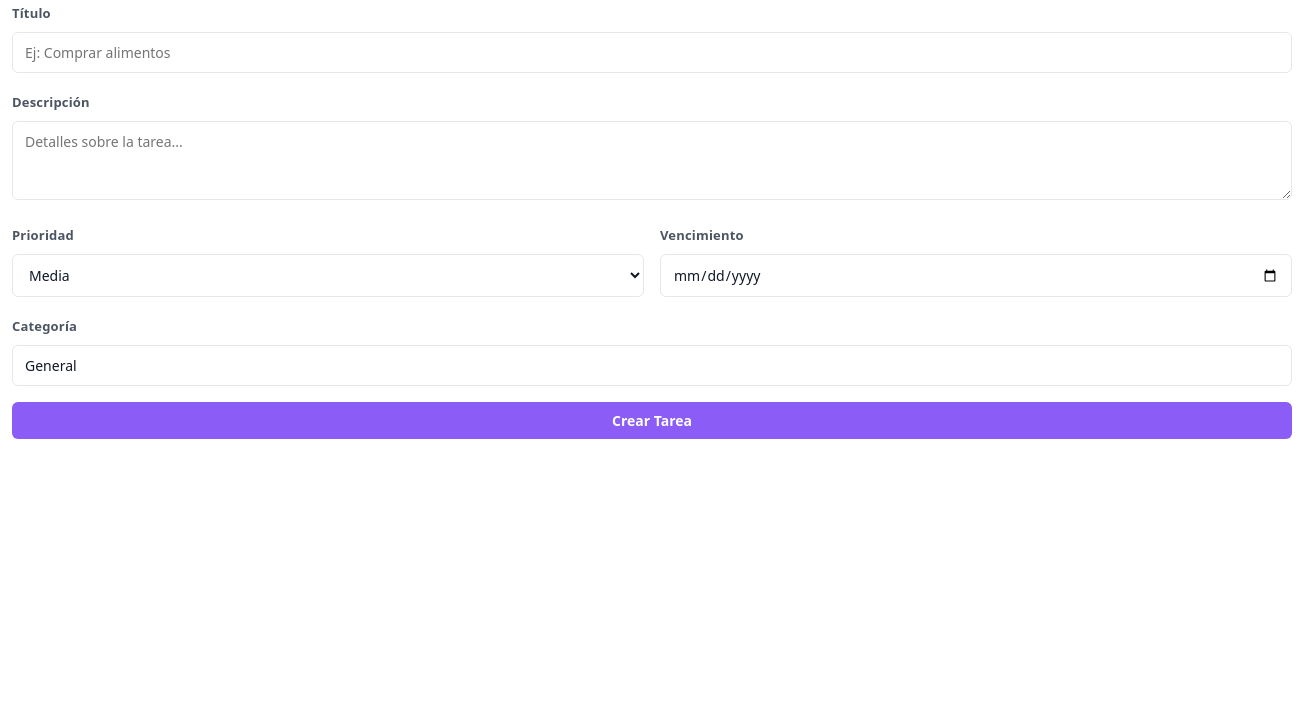
Test: TodoForm Component › shows validation errors when fields are empty
The image size is (1304, 720).
Click the button "Crear Tarea" at point(652, 421), box x1=12 y1=402 x2=1292 y2=440
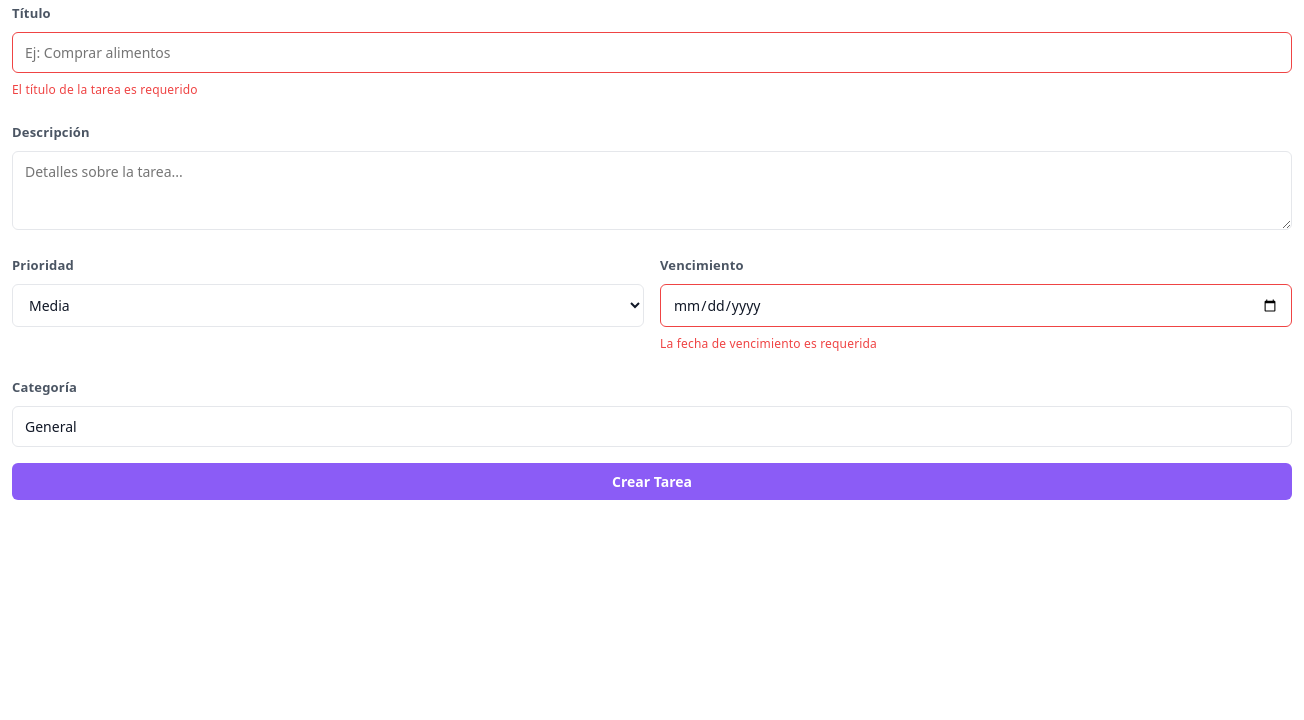
Expected: the text "El título de la tarea es requerido" is shown, x1=12 y1=81 x2=198 y2=98
Expected: the text "La fecha de vencimiento es requerida" is shown, x1=660 y1=336 x2=877 y2=352
Type "ab" into the field labelled "Título" at point(652, 53), box x1=12 y1=32 x2=1292 y2=73
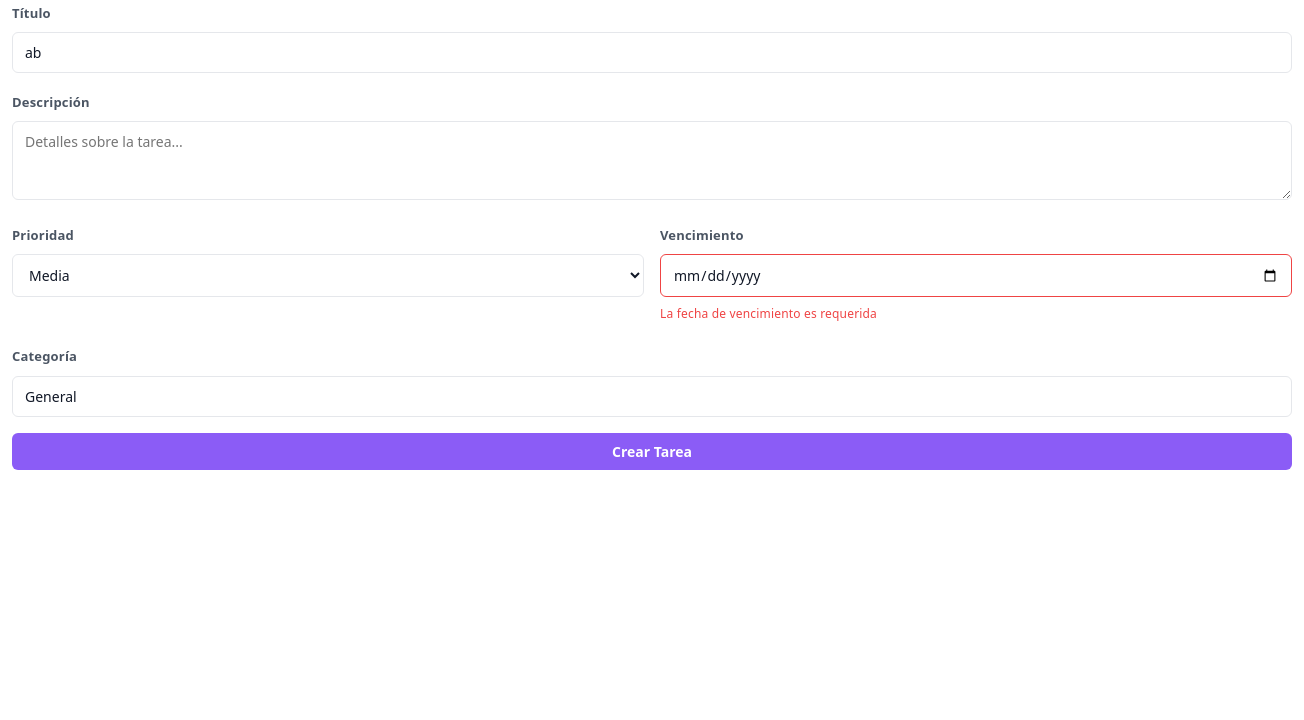
Click the button "Crear Tarea" at point(652, 451), box x1=12 y1=433 x2=1292 y2=470
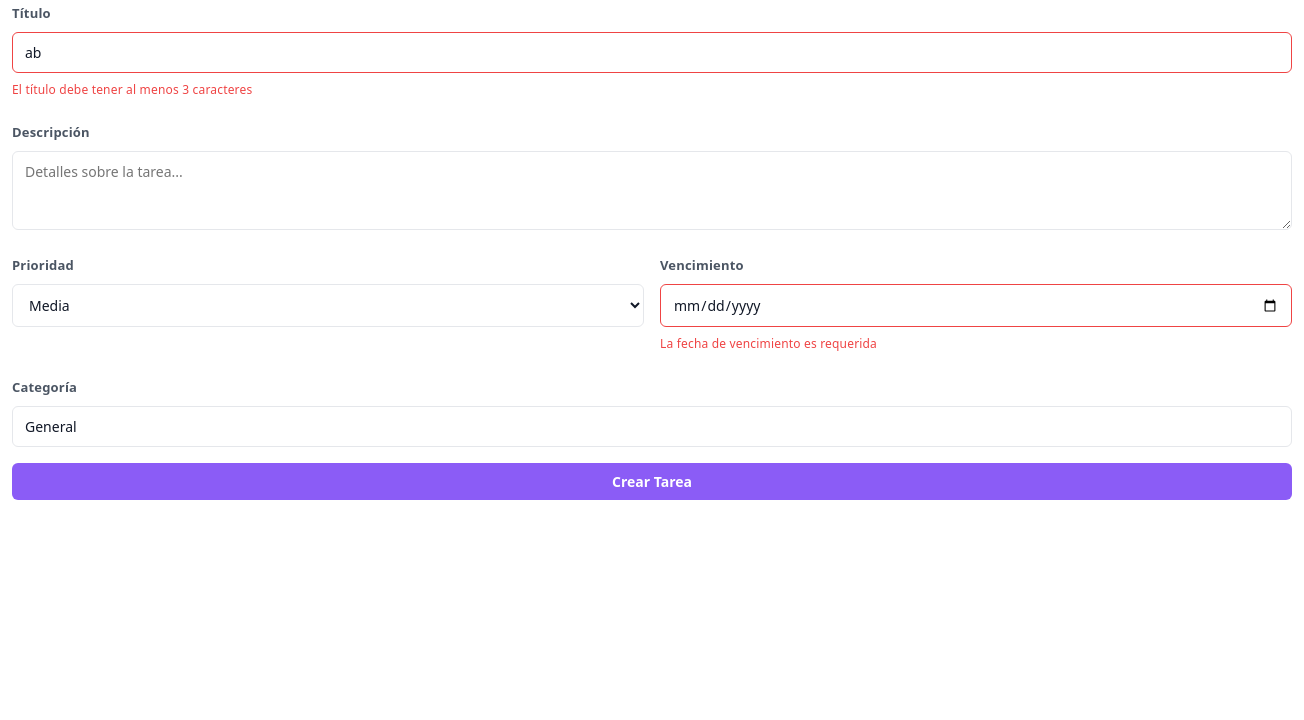
Expected: the text "El título debe tener al menos 3 caracteres" is shown, x1=12 y1=81 x2=252 y2=98
